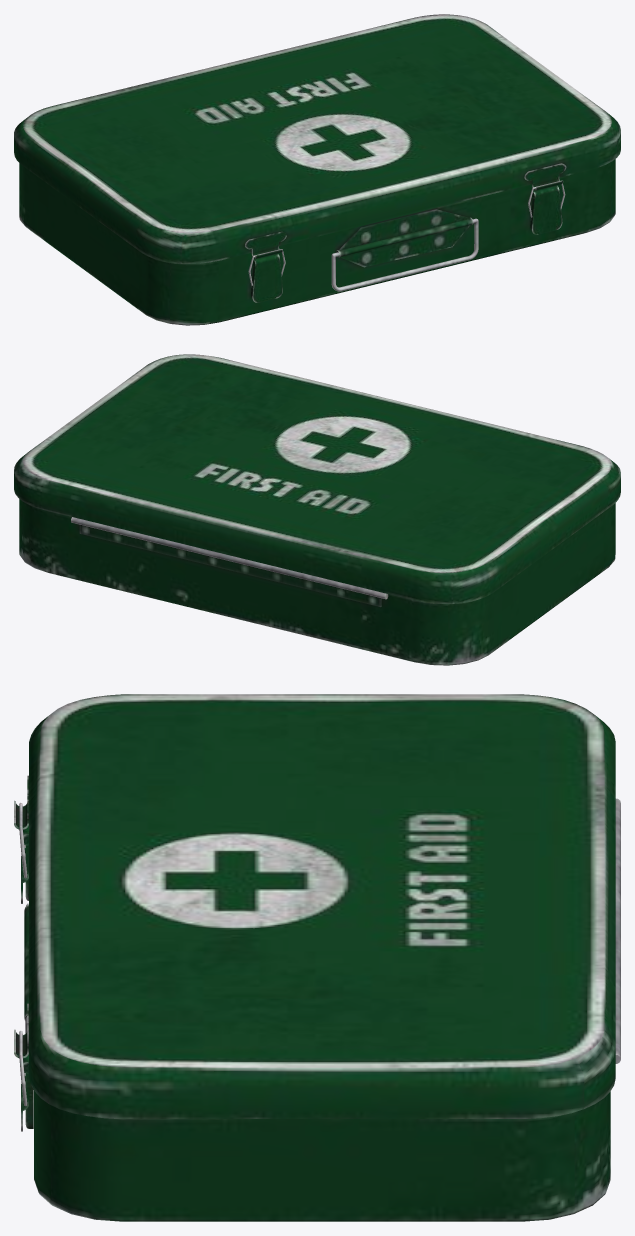
The model's file is medical_box.glb.
The picture shows the model from 3 angles, top to bottom: view 1: azimuth 30°, elevation 25°; view 2: azimuth 150°, elevation 25°; view 3: azimuth 270°, elevation 25°; orthographic projection. The views are drawn at different scales.
Parts seen in each view (by area): view 1: medical_box_lid, medical_box, medical_box_latch, medical_box_handle; view 2: medical_box_lid, medical_box; view 3: medical_box_lid, medical_box.
Boxes of the visible parts, x1,y1,x2,y2 form: medical_box_lid: (14, 14, 620, 263); medical_box: (19, 159, 615, 325); medical_box_latch: (251, 185, 562, 302); medical_box_handle: (331, 218, 478, 291); medical_box_lid: (14, 354, 620, 603); medical_box: (19, 499, 615, 665); medical_box_lid: (14, 694, 615, 1118); medical_box: (24, 798, 620, 1221).
Bounding box in the file's own units: 0.5255 × 0.0975 × 0.3502.
Materials: 1 (1 with a texture image).
